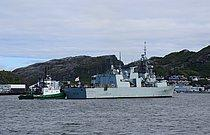MIL_Ship: (63, 58, 174, 99)
